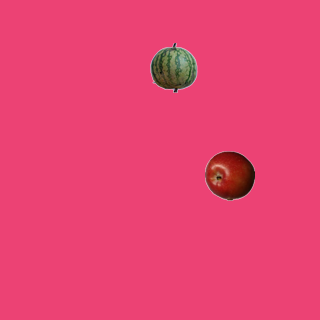Apple Braeburn: (204, 150, 254, 200)
Watermelon: (148, 42, 198, 92)
